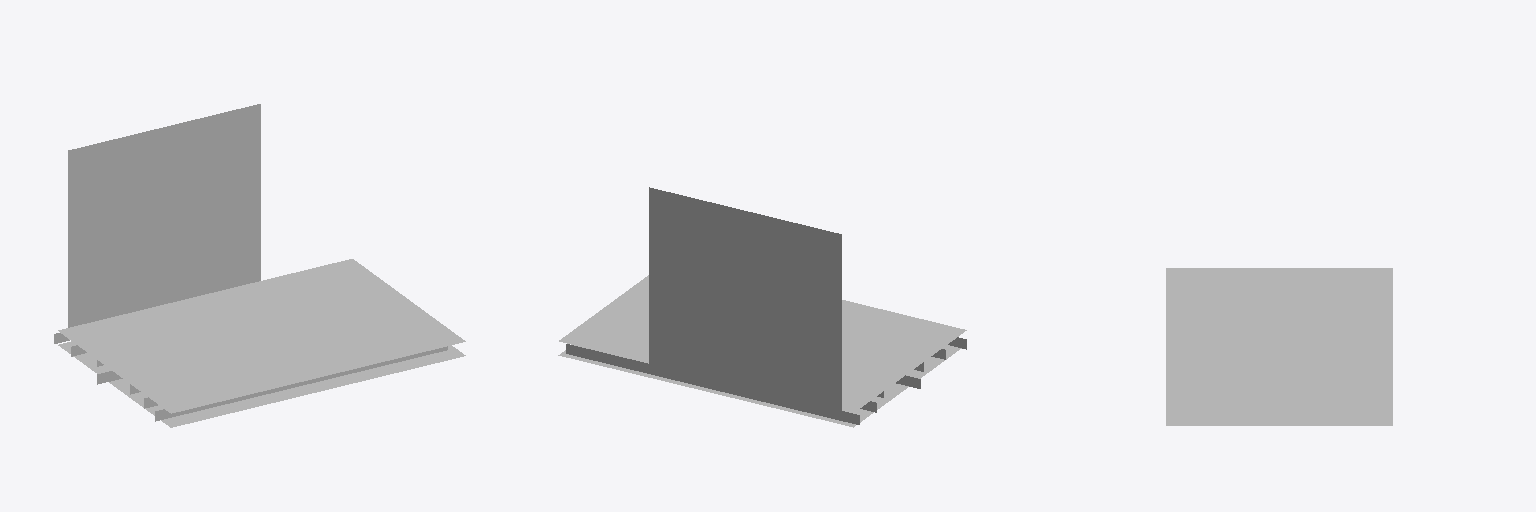
Rendered from bedroom_floor.obj.
3 views of the same model, side by side, from view 1: azimuth 30°, elevation 25°; view 2: azimuth 150°, elevation 25°; view 3: azimuth 270°, elevation 25° (orthographic).
Parts seen in each view (by area): view 1: bedroom_Cube.002; view 2: bedroom_Cube.002; view 3: bedroom_Cube.002.
Part boxes in pixels (x1,y1,x2,y2): bedroom_Cube.002: (54, 104, 465, 427); bedroom_Cube.002: (558, 187, 966, 427); bedroom_Cube.002: (1166, 268, 1392, 425).
Size of the model in its own units: 6.32 by 3.71 by 4.02.